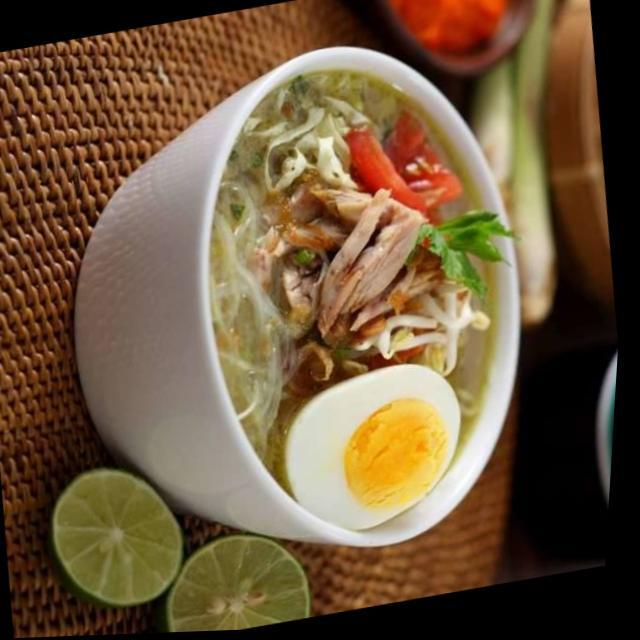Soto: (205, 66, 510, 529)
